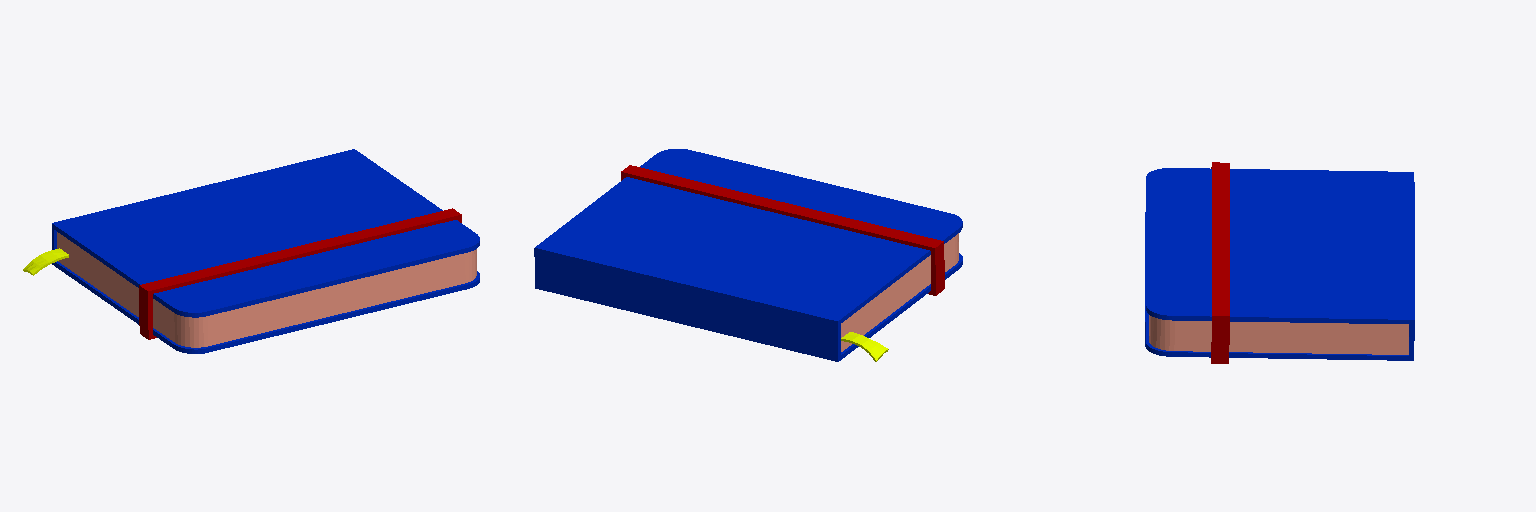
Rendered from agenda.obj.
3 views of the same model, side by side, from view 1: azimuth 30°, elevation 25°; view 2: azimuth 150°, elevation 25°; view 3: azimuth 270°, elevation 25° (orthographic).
Visible parts, largest first — view 1: livre, livre.003, livre.002, livre.001; view 2: livre, livre.002, livre.003, livre.001; view 3: livre, livre.003, livre.002.
Boxes of the visible parts, <box> form: livre: <box>52,149,479,353</box>; livre.003: <box>57,232,476,347</box>; livre.002: <box>139,208,461,339</box>; livre.001: <box>23,248,68,275</box>; livre: <box>534,149,962,361</box>; livre.002: <box>621,165,944,295</box>; livre.003: <box>841,233,958,351</box>; livre.001: <box>841,332,888,361</box>; livre: <box>1145,168,1414,360</box>; livre.003: <box>1149,315,1408,354</box>; livre.002: <box>1211,162,1229,363</box>.
Size of the model in its own units: 4.58 by 0.6176 by 3.11.